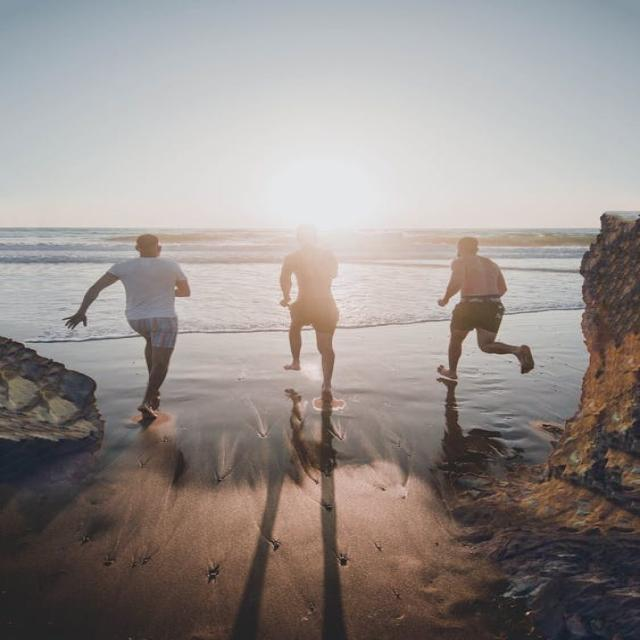running: (62, 234, 196, 428), (434, 232, 540, 390), (276, 222, 353, 405)
